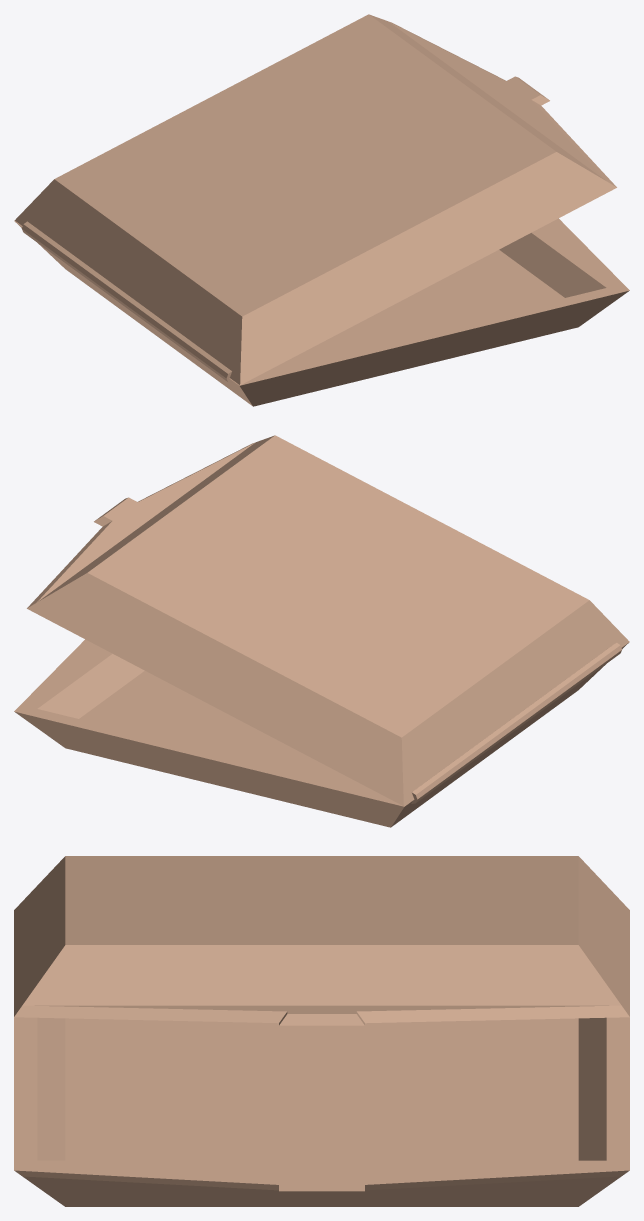
Rendered from TakeOutContainer.fbx.
The picture shows the model from 3 angles, top to bottom: view 1: azimuth 30°, elevation 25°; view 2: azimuth 150°, elevation 25°; view 3: azimuth 270°, elevation 25°; orthographic projection. The views are drawn at different scales.
Visible parts, largest first — view 1: Cube.001; view 2: Cube.001; view 3: Cube.001.
Boxes of the visible parts, x1=… form: Cube.001: x1=14, y1=14, x2=629, y2=406; Cube.001: x1=14, y1=435, x2=629, y2=827; Cube.001: x1=14, y1=856, x2=629, y2=1206.
Size of the model in its own units: 31.29 by 12.75 by 28.8.
1 material, 1 textured.
